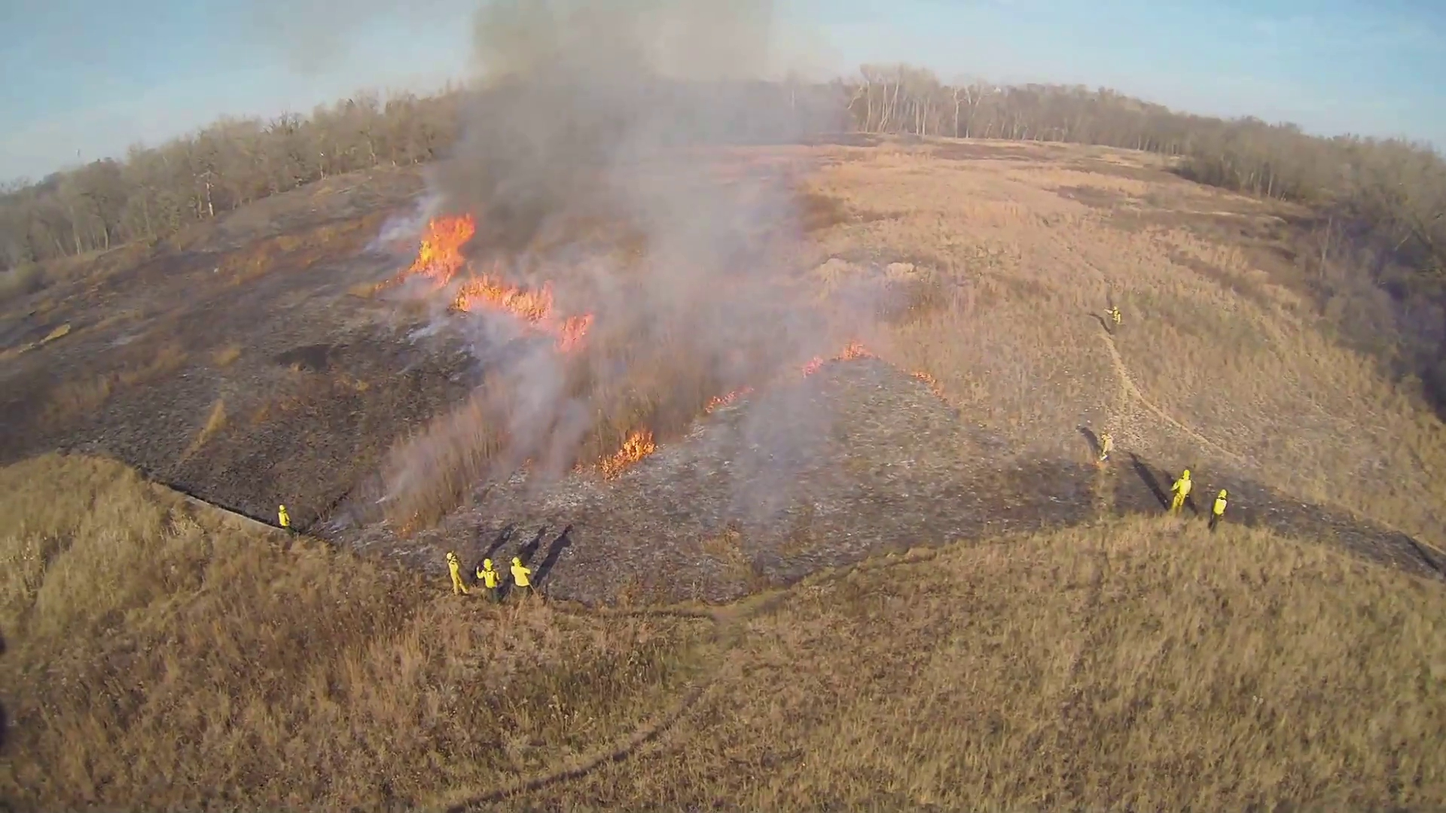forest_fire: (450, 274, 593, 353), (393, 215, 474, 288), (598, 428, 655, 477), (801, 341, 872, 376), (705, 386, 751, 413)
